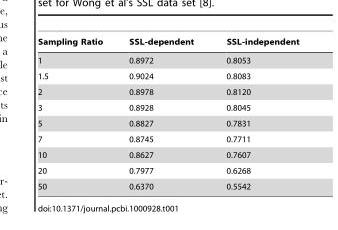table: (37, 37, 298, 190)
table column: (115, 37, 209, 190), (209, 37, 298, 190), (37, 37, 115, 190)
table column header: (37, 37, 298, 50)
table row: (37, 50, 298, 68), (37, 83, 298, 99), (37, 99, 298, 115), (37, 115, 298, 131), (37, 146, 298, 162), (37, 162, 298, 178), (37, 68, 298, 83), (37, 131, 298, 146), (37, 37, 298, 50), (37, 178, 298, 190)
